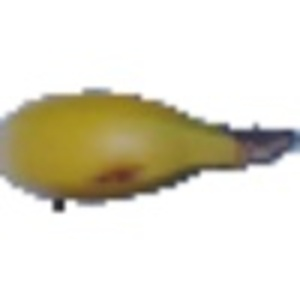banana: (2, 82, 275, 206)
